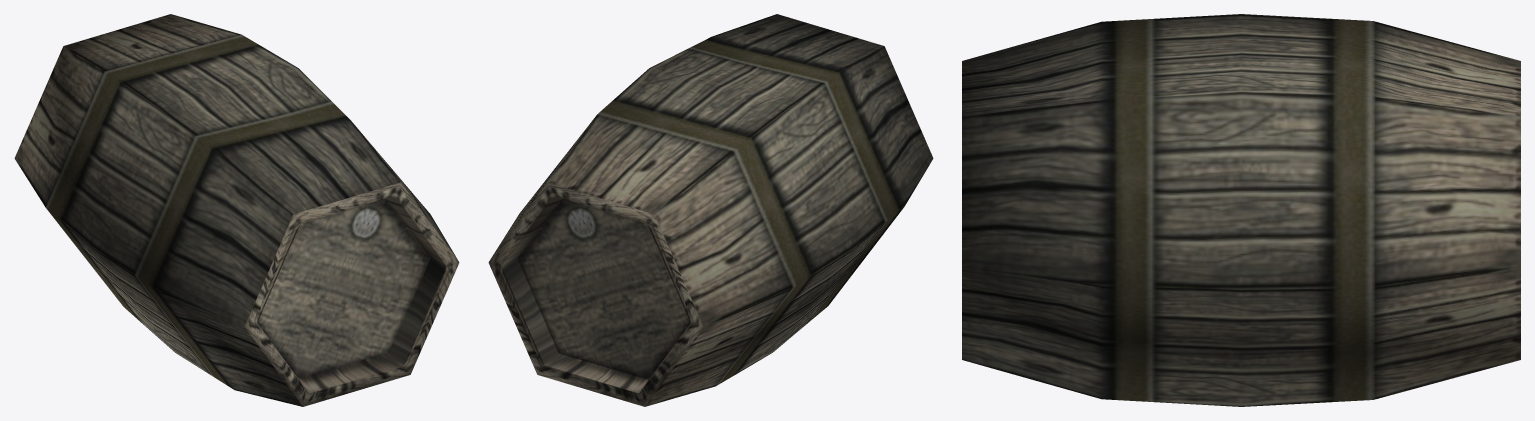
Rendered from barrel_sideways.fbx.
3 renders of one model, left to right at view 1: azimuth 30°, elevation 25°; view 2: azimuth 150°, elevation 25°; view 3: azimuth 270°, elevation 25°, orthographic. The views are drawn at different scales.
Visible parts, largest first — view 1: lod_high; view 2: lod_high; view 3: lod_high.
Boxes of the visible parts, left/top/right/bottom form: lod_high: left=14, top=14, right=459, bottom=406; lod_high: left=488, top=14, right=933, bottom=406; lod_high: left=962, top=14, right=1520, bottom=406.
Size of the model in its own units: 461 by 395 by 648.
Materials: 1 (1 with a texture image).
